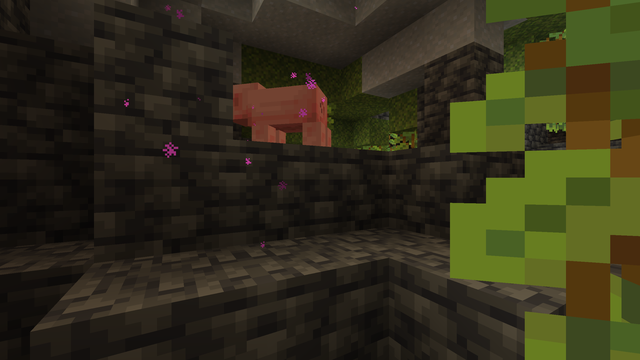cochons: (250, 76, 331, 144)
